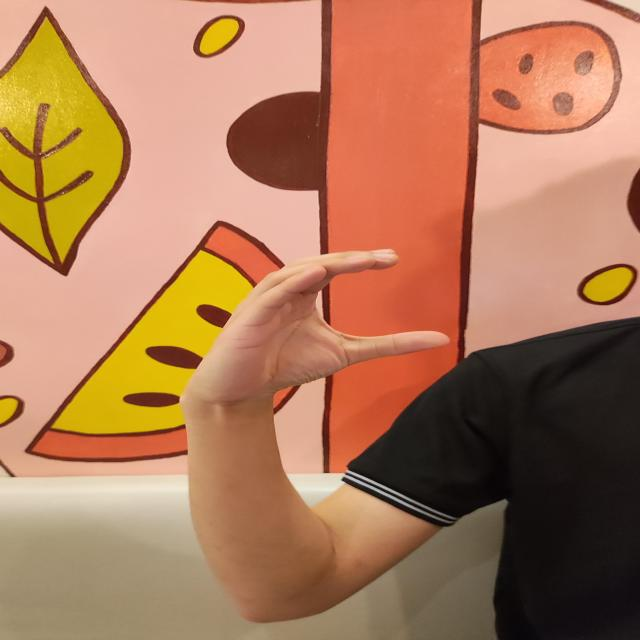C: (192, 246, 452, 399)
